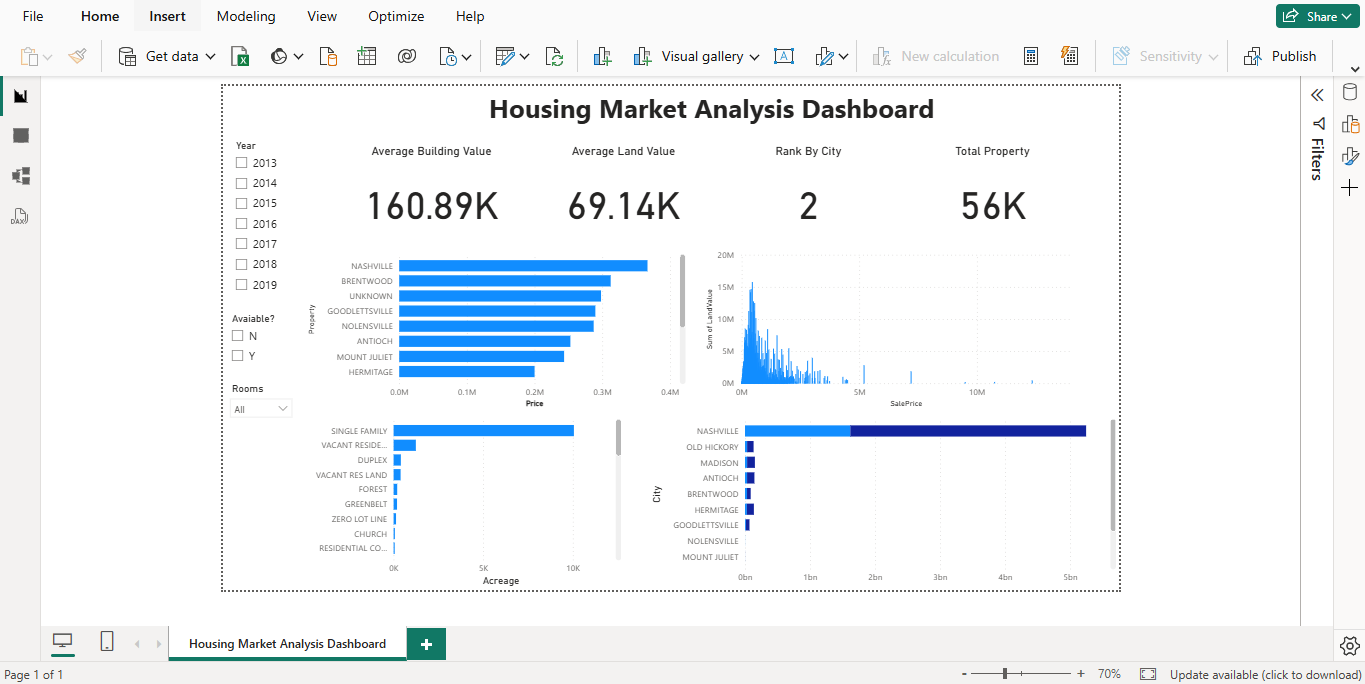

Layout of this report page (visuals, bound fields, positions):
{"tool":"powerbi","page":{"name":"Housing Market Analysis Dashboard","canvas":[1280,720],"ordinal":0},"visuals":[{"type":"card","title":"Average Building Value","fields":{"Values":["Measure.Average Builder Value"]},"box":[164.3,82.9,267.1,144.3],"z":0},{"type":"textbox","box":[3.3,5,110,715],"z":1000},{"type":"textbox","box":[115,0,1165,71.7],"z":2000},{"type":"card","title":"Average Land Value","fields":{"Values":["Measure.Average Land Value"]},"box":[447.1,82.9,250,144.3],"z":3000},{"type":"card","title":"Rank By City","fields":{"Values":["Measure.Price Rank by City"]},"box":[722.9,82.9,227.1,144.3],"z":4000},{"type":"card","title":"Total Property","fields":{"Values":["Measure.Total Properties"]},"box":[968.6,82.9,261.4,144.3],"z":5000},{"type":"clusteredBarChart","fields":{"Category":["Housing.PropertySpilitCity"],"Y":["Measure.AveragePrice"]},"box":[115,226.7,550,236.7],"z":6000},{"type":"columnChart","fields":{"Category":["Housing.SalePrice"],"Y":["Sum(Housing.LandValue)"]},"box":[685,226.7,545,236.7],"z":7000},{"type":"clusteredBarChart","fields":{"Category":["Housing.LandUse"],"Y":["Sum(Housing.Acreage)"]},"box":[115,463.3,458.3,256.7],"z":8000},{"type":"barChart","fields":{"Category":["Housing.OwnerSpilitCity"],"Y":["Sum(Housing.LandValue)","Sum(Housing.BuildingValue)"]},"box":[605,463.3,675,256.7],"z":8001},{"type":"slicer","fields":{"Values":["Housing.SalesDate.Variation.Date Hierarchy.Year"]},"box":[5.7,71.4,102.9,247.1],"z":8002},{"type":"slicer","fields":{"Values":["Housing.SoldAsVacant"]},"box":[0,318.6,108.6,100],"z":8003},{"type":"slicer","fields":{"Values":["Housing.Bedrooms"]},"box":[0,418.6,108.6,94.3],"z":8004}]}

Visuals, with their boxes in screenshot pixels (x1, y1, x2, y2):
"Average Building Value" card: <region>265, 82, 506, 212</region>
textbox: <region>120, 12, 219, 656</region>
textbox: <region>221, 7, 1271, 72</region>
"Average Land Value" card: <region>520, 82, 746, 212</region>
"Rank By City" card: <region>769, 82, 974, 212</region>
"Total Property" card: <region>991, 82, 1226, 212</region>
clusteredBarChart - Housing.PropertySpilitCity x Measure.AveragePrice: <region>221, 212, 717, 425</region>
columnChart - Housing.SalePrice x Sum(Housing.LandValue): <region>735, 212, 1226, 425</region>
clusteredBarChart - Housing.LandUse x Sum(Housing.Acreage): <region>221, 425, 634, 656</region>
barChart - Housing.OwnerSpilitCity x Sum(Housing.LandValue): <region>663, 425, 1271, 656</region>
slicer - Housing.SalesDate.Variation.Date Hierarchy.Year: <region>122, 71, 215, 294</region>
slicer - Housing.SoldAsVacant: <region>117, 294, 215, 385</region>
slicer - Housing.Bedrooms: <region>117, 385, 215, 470</region>
